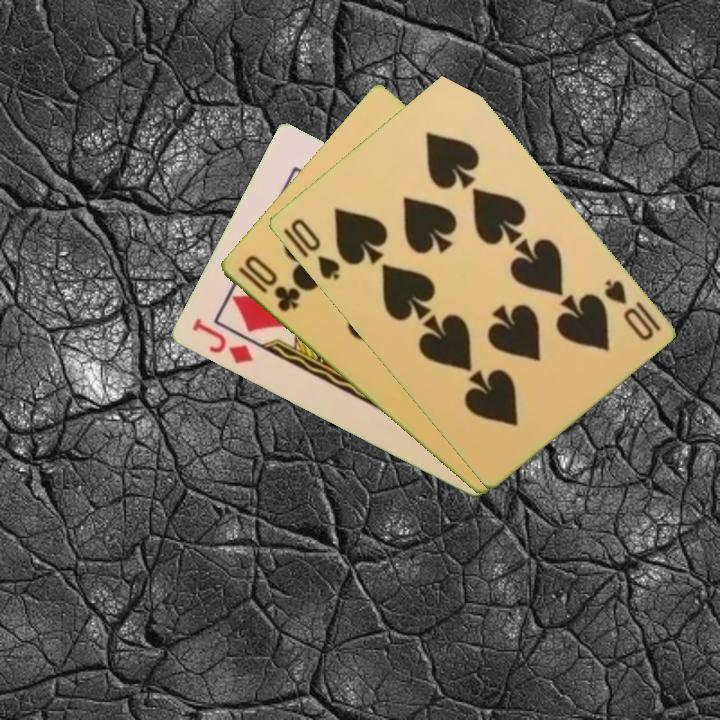10c: (234, 251, 303, 315)
10s: (599, 275, 664, 344), (286, 214, 343, 283)
Jd: (187, 315, 256, 368)
